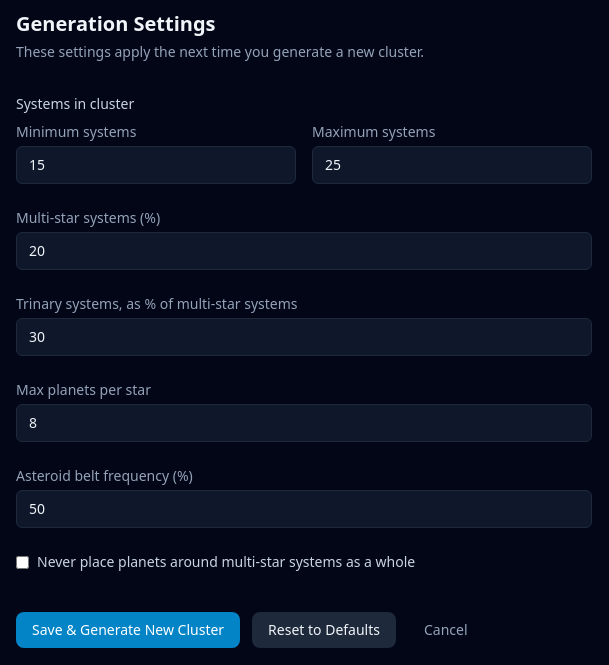
Test: settings page › resets staged edits to defaults without saving
Replace the text in the number field labelled "Max planets per star" with "2" at (304, 423), box [16,404,592,442]
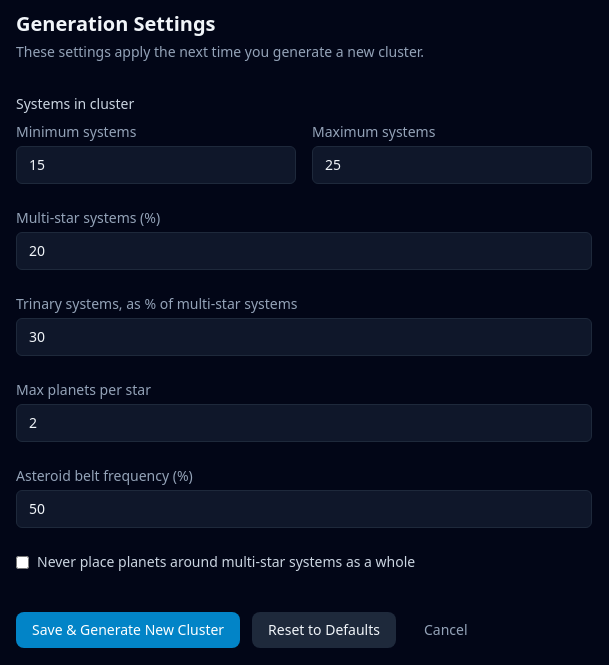
Click the button "Reset to Defaults" at (324, 630), box [252,612,396,648]
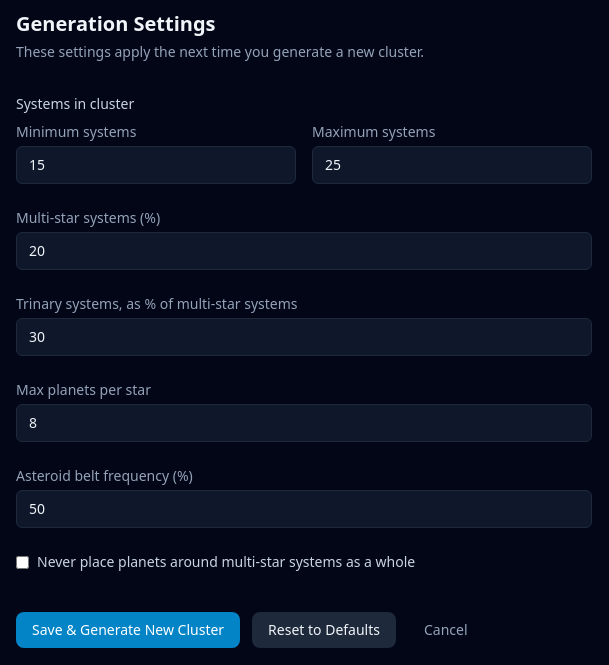
Check: the number field labelled "Max planets per star" holds "8", box [16,404,592,442]
